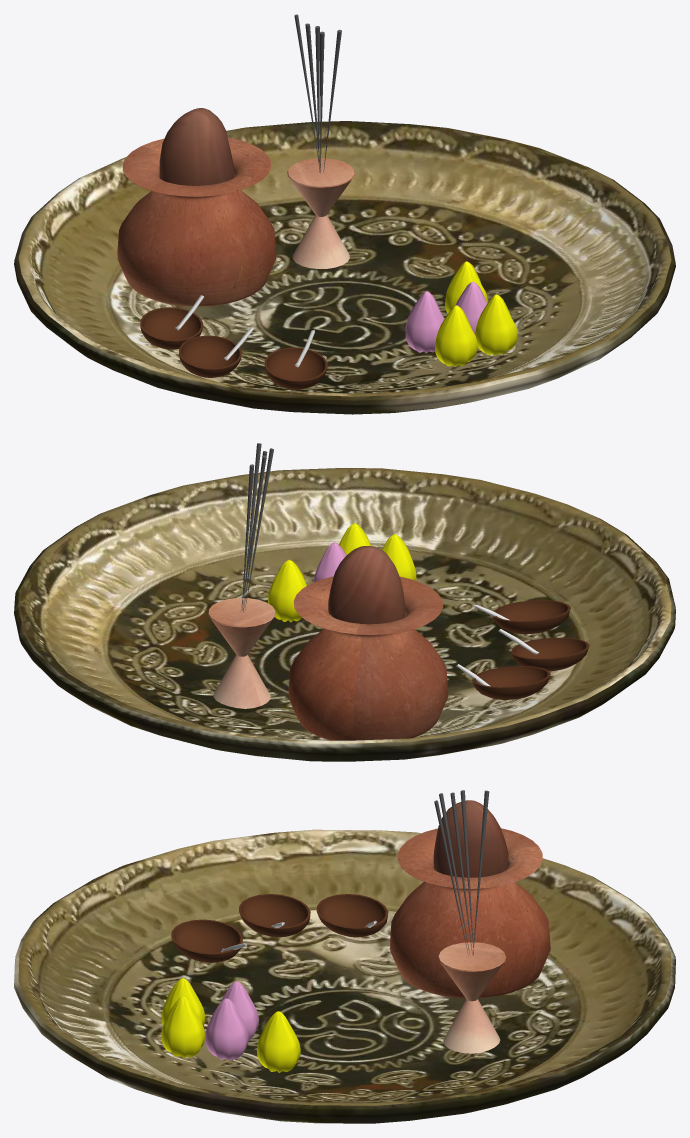
The model's file is pooja_thali.glb.
The picture shows the model from 3 angles, top to bottom: view 1: azimuth 30°, elevation 25°; view 2: azimuth 150°, elevation 25°; view 3: azimuth 270°, elevation 25°; orthographic projection.
Parts seen in each view (by area): view 1: THALI_phong1SG_0, polySurface14_phong3_0, polySurface71_lambert21SG_0, Object_2_lambert22SG_0, Object_4_lambert18SG_0, Object_3_lambert17SG_0, Object_9_lambert20SG_0; view 2: THALI_phong1SG_0, polySurface14_phong3_0, polySurface71_lambert21SG_0, Object_2_lambert22SG_0, Object_4_lambert18SG_0, Object_9_lambert20SG_0, Object_3_lambert17SG_0, Object_7_phong2_0; view 3: THALI_phong1SG_0, polySurface14_phong3_0, polySurface71_lambert21SG_0, Object_4_lambert18SG_0, Object_2_lambert22SG_0, Object_3_lambert17SG_0, Object_9_lambert20SG_0.
Part boxes in pixels (x1,y1,x2,y2): THALI_phong1SG_0: (14, 121, 675, 414); polySurface14_phong3_0: (117, 137, 354, 306); polySurface71_lambert21SG_0: (140, 307, 327, 389); Object_2_lambert22SG_0: (159, 108, 233, 185); Object_4_lambert18SG_0: (435, 261, 517, 366); Object_3_lambert17SG_0: (405, 281, 487, 353); Object_9_lambert20SG_0: (294, 14, 341, 173); THALI_phong1SG_0: (14, 468, 675, 761); polySurface14_phong3_0: (208, 576, 448, 740); polySurface71_lambert21SG_0: (472, 600, 589, 699); Object_2_lambert22SG_0: (328, 546, 405, 624); Object_4_lambert18SG_0: (268, 523, 416, 622); Object_9_lambert20SG_0: (240, 443, 273, 612); Object_3_lambert17SG_0: (313, 542, 346, 581); Object_7_phong2_0: (456, 605, 538, 686); THALI_phong1SG_0: (14, 829, 675, 1123); polySurface14_phong3_0: (390, 828, 550, 1053); polySurface71_lambert21SG_0: (171, 894, 388, 962); Object_4_lambert18SG_0: (161, 978, 300, 1072); Object_2_lambert22SG_0: (433, 800, 508, 877); Object_3_lambert17SG_0: (205, 981, 258, 1060); Object_9_lambert20SG_0: (434, 790, 489, 955).
Bounding box in the file's own units: 0.2743 × 0.1146 × 0.2743.
8 materials, 3 textured.
